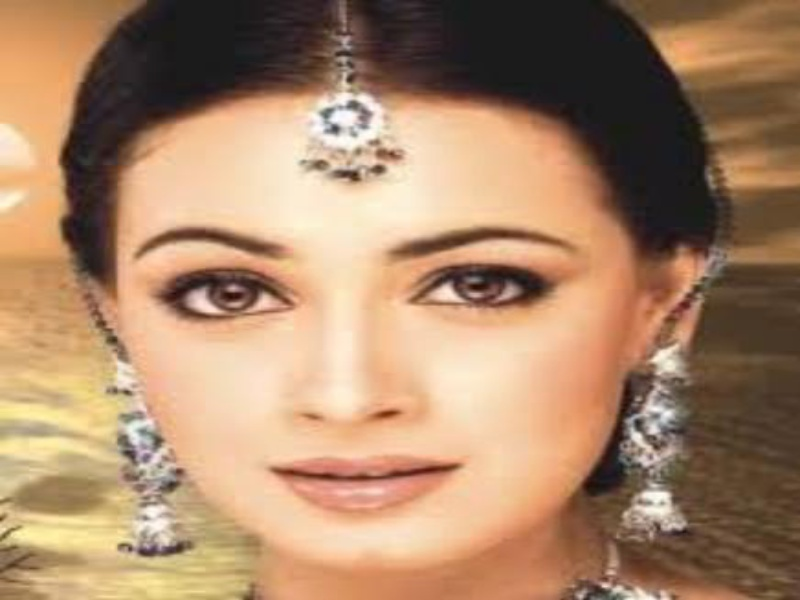TsisyArotava: (54, 13, 685, 579)
